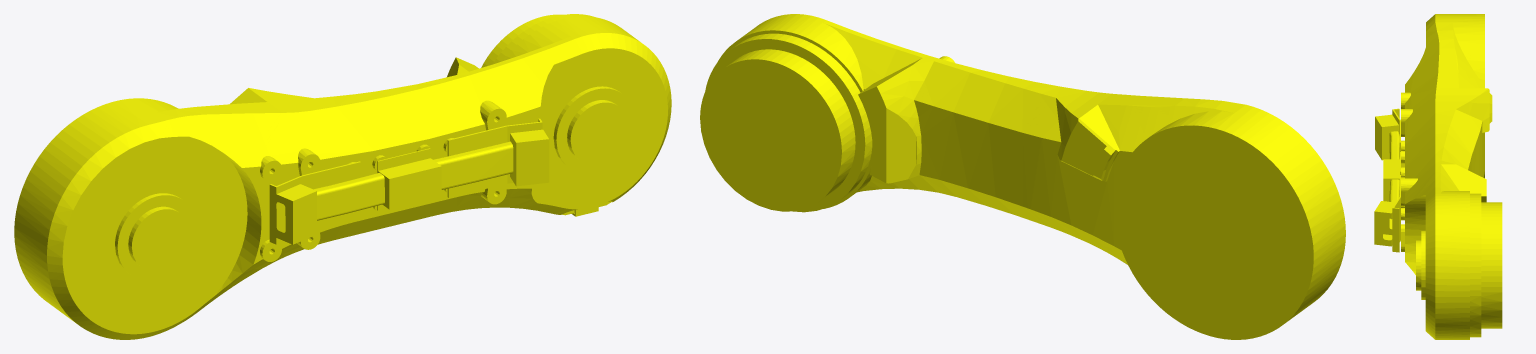
3 views of the same model, side by side, from view 1: azimuth 30°, elevation 25°; view 2: azimuth 150°, elevation 25°; view 3: azimuth 270°, elevation 25° (orthographic). The views are drawn at different scales.
Visible parts, largest first — view 1: node; view 2: node; view 3: node.
Part boxes in pixels (<box>): node: <box>14,14,671,339</box>; node: <box>700,14,1345,339</box>; node: <box>1374,14,1502,339</box>.
Size of the model in its own units: 1140 by 370 by 306.
